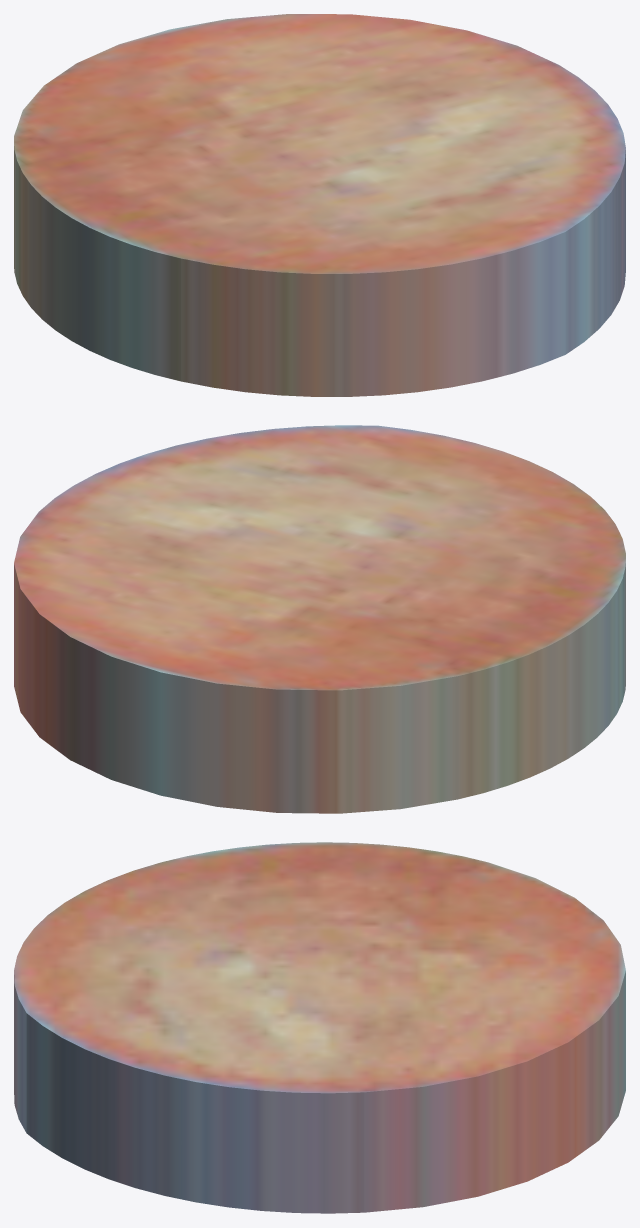
The model's file is sin titulo odontologia 2.dae.
3 renders of one model, top to bottom at view 1: azimuth 30°, elevation 25°; view 2: azimuth 150°, elevation 25°; view 3: azimuth 270°, elevation 25°, orthographic. The views are drawn at different scales.
Visible parts, largest first — view 1: SketchUp; view 2: SketchUp; view 3: SketchUp.
Boxes of the visible parts, <box> form: SketchUp: <box>14,14,625,396</box>; SketchUp: <box>14,425,625,813</box>; SketchUp: <box>14,842,625,1213</box>.
Size of the model in its own units: 10.9 by 11.24 by 2.44.
1 material, 1 textured.
